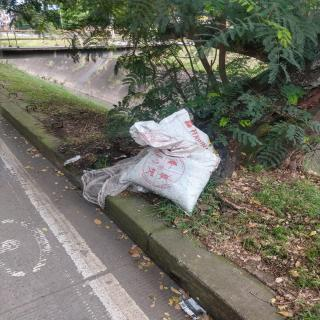Garbage: (113, 108, 228, 219)
